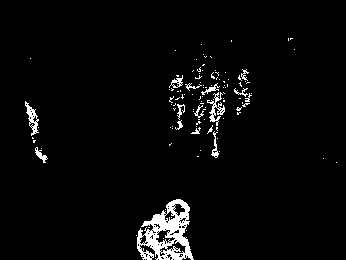person: (139, 194, 195, 260), (205, 75, 229, 160), (22, 98, 50, 165), (187, 67, 208, 138), (167, 72, 187, 132)
